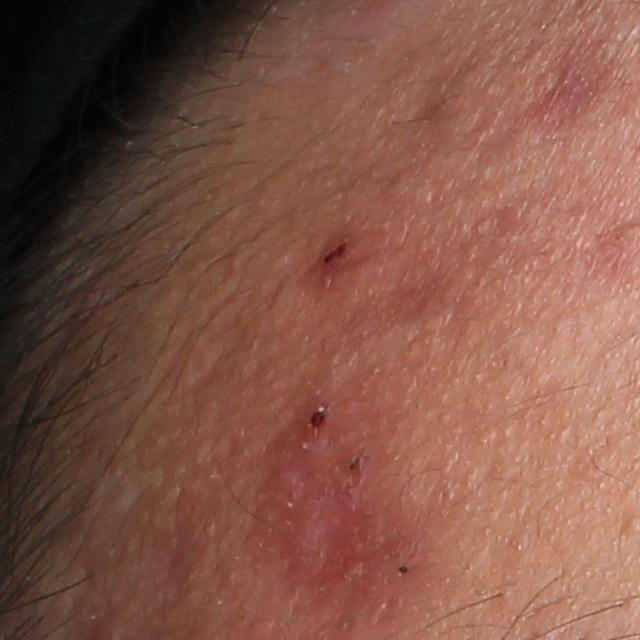papule: (267, 468, 343, 578), (292, 394, 345, 463), (314, 232, 376, 281)
